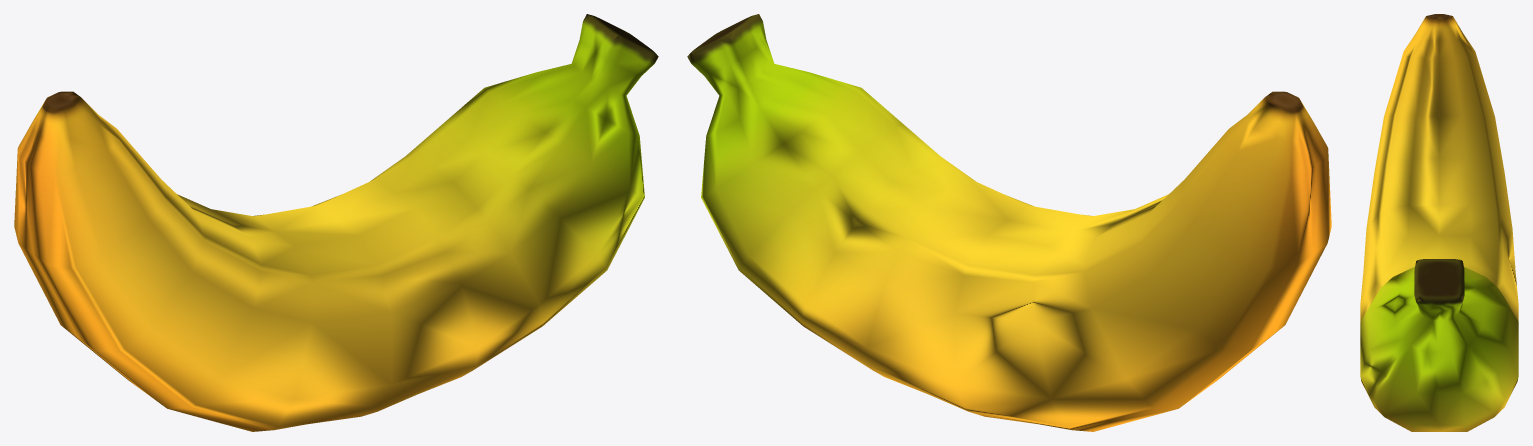
The model's file is banana.obj.
The picture shows the model from 3 angles, left to right: view 1: azimuth 30°, elevation 25°; view 2: azimuth 150°, elevation 25°; view 3: azimuth 270°, elevation 25°; orthographic projection. The views are drawn at different scales.
Parts seen in each view (by area): view 1: Banana; view 2: Banana; view 3: Banana.
Part boxes in pixels (x1,y1,x2,y2): Banana: (14, 14, 658, 431); Banana: (687, 14, 1331, 431); Banana: (1360, 14, 1518, 431).
Bounding box in the file's own units: 106 × 61.18 × 30.91.
1 material, 1 textured.
